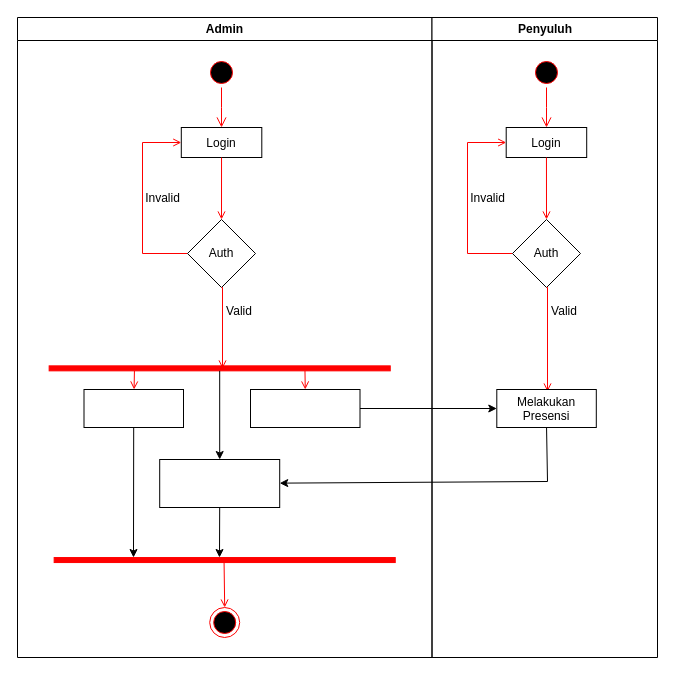
The diagram is 675 pixels wide and 675 high, and some of its shapes have lost their labels. Here are the shapes that lost their labels. From the top down, the centre of each, then its label:
the point at 133,408: Mengelola Akun Penyuluh
the point at 305,408: Mengelola Tugas Penyuluhan
the point at 219,483: Merekap Data Presensi
